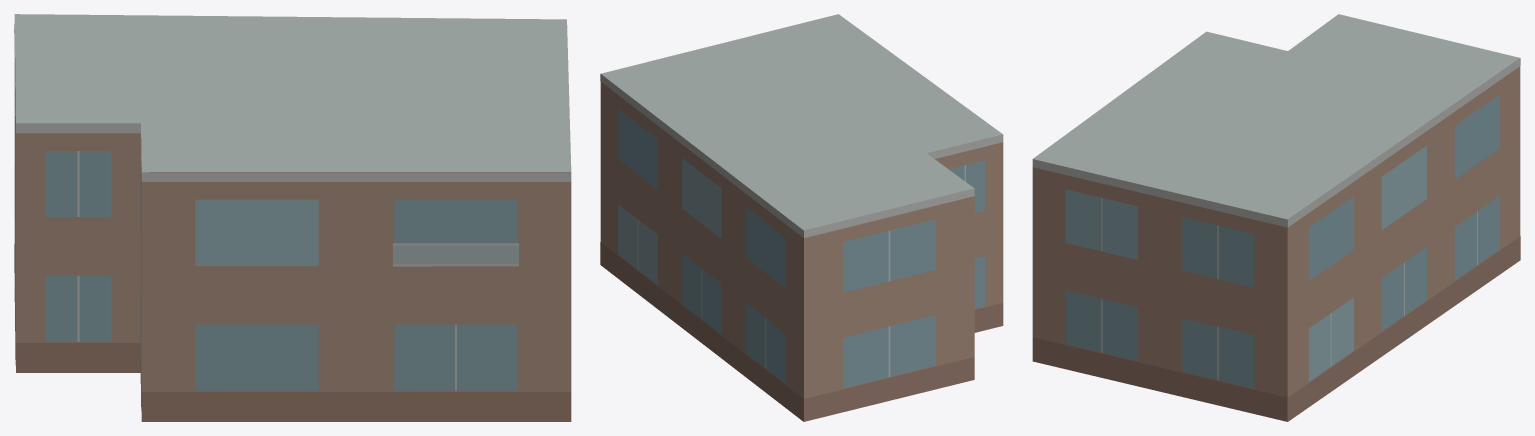
Rendered from survey-upis-32776822.glb.
3 views of the same model, side by side, from view 1: azimuth 30°, elevation 25°; view 2: azimuth 150°, elevation 25°; view 3: azimuth 270°, elevation 25° (orthographic). The views are drawn at different scales.
Visible parts, largest first — view 1: survey-upis-32776822.tmp; view 2: survey-upis-32776822.tmp; view 3: survey-upis-32776822.tmp.
Part boxes in pixels (<box>): survey-upis-32776822.tmp: <box>14,14,571,421</box>; survey-upis-32776822.tmp: <box>600,14,1003,421</box>; survey-upis-32776822.tmp: <box>1032,14,1520,421</box>.
Size of the model in its own units: 13.3 by 6.1 by 13.34.
